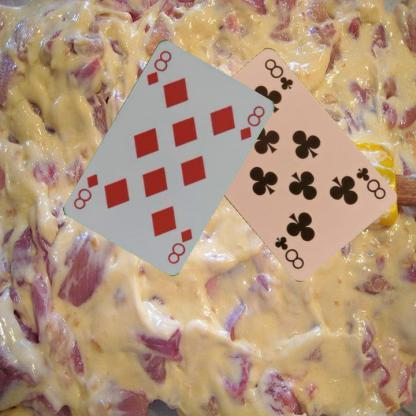8c: (352, 164, 388, 201)
8d: (165, 225, 194, 265), (144, 48, 173, 86)
